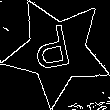P_S: (34, 23, 80, 80)
